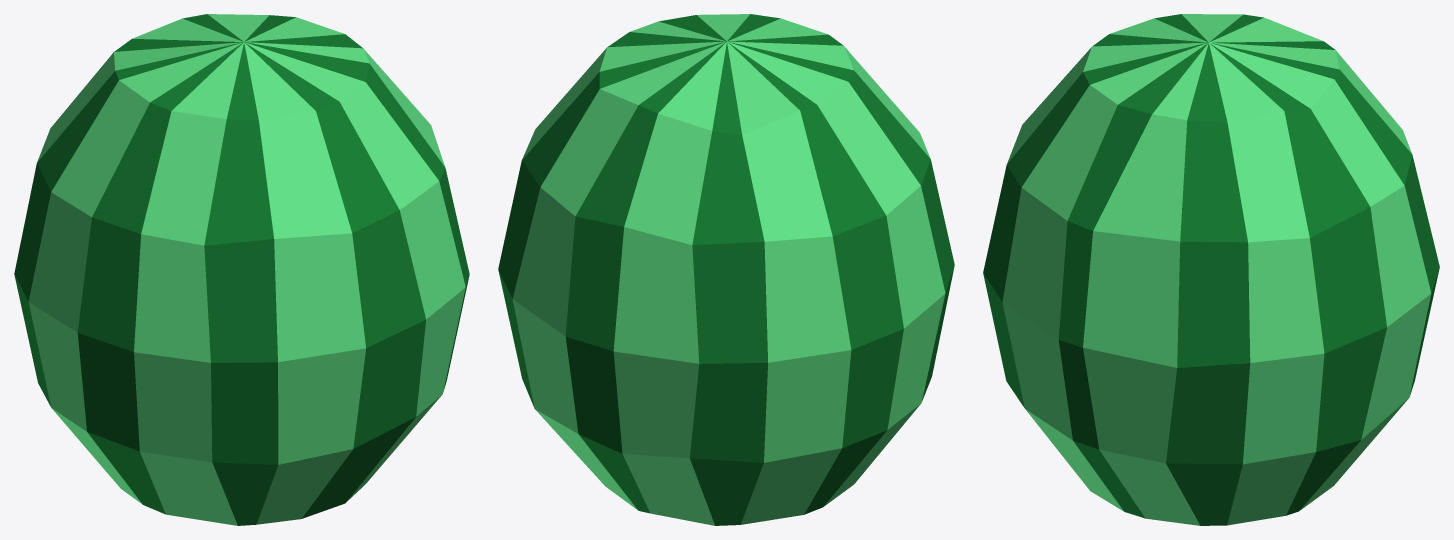
File: watermelon.fbx
3 renders of one model, left to right at view 1: azimuth 30°, elevation 25°; view 2: azimuth 150°, elevation 25°; view 3: azimuth 270°, elevation 25°, orthographic.
Parts seen in each view (by area): view 1: Sphere; view 2: Sphere; view 3: Sphere.
Part boxes in pixels (left/top/right/bottom): Sphere: left=14, top=14, right=469, bottom=525; Sphere: left=498, top=14, right=954, bottom=525; Sphere: left=983, top=14, right=1439, bottom=525.
Bounding box in the file's own units: 40.64 × 45.46 × 41.1.
Materials: 1 (1 with a texture image).
